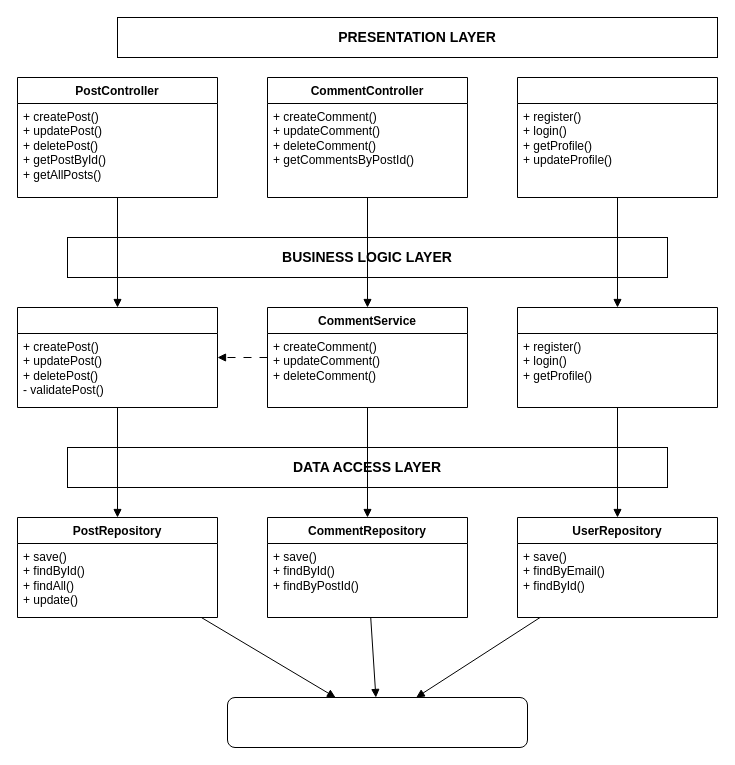
Image size: 735x765. Some labels were removed from this diagram. Each missing label, with the box of its shape:
DATABASE (posts, comments, users): (226, 696, 528, 748)
PostService: (16, 306, 218, 408)
UserController: (516, 76, 718, 198)
UserService: (516, 306, 718, 408)
